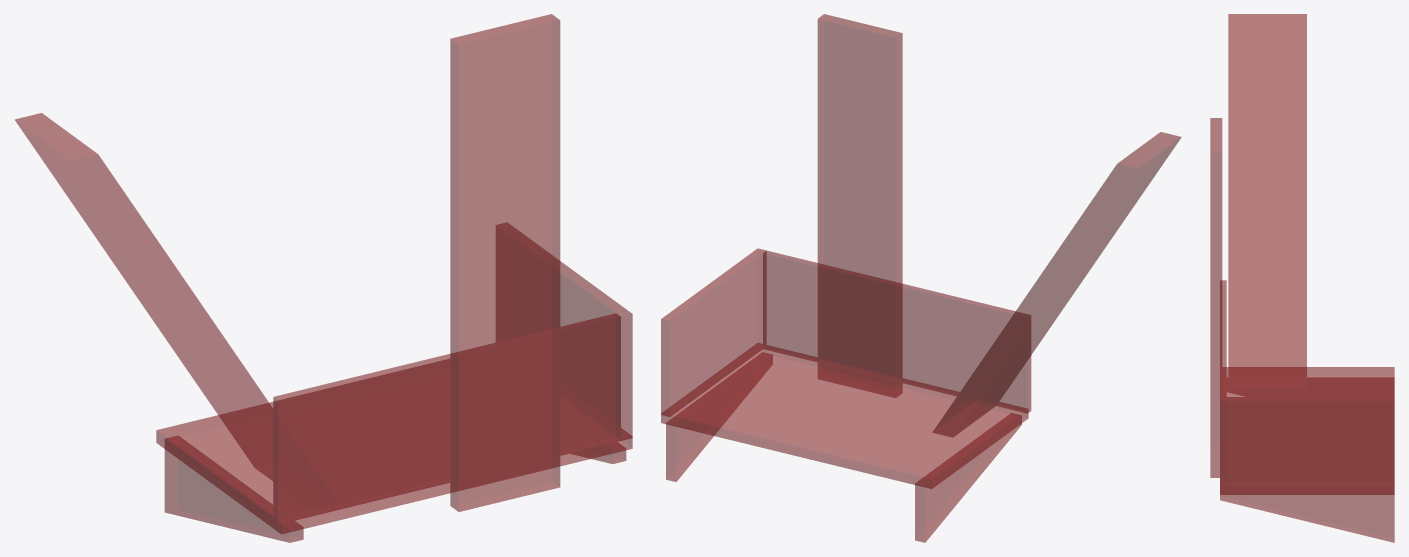
The model's file is SM_Bld_FireEscape_03_Collision.fbx.
The picture shows the model from 3 angles, left to right: view 1: azimuth 30°, elevation 25°; view 2: azimuth 150°, elevation 25°; view 3: azimuth 270°, elevation 25°; orthographic projection. The views are drawn at different scales.
Visible parts, largest first — view 1: SM_Bld_FireEscape_03_Collision; view 2: SM_Bld_FireEscape_03_Collision; view 3: SM_Bld_FireEscape_03_Collision.
Part boxes in pixels (<box>): SM_Bld_FireEscape_03_Collision: <box>15,14,632,542</box>; SM_Bld_FireEscape_03_Collision: <box>661,14,1181,542</box>; SM_Bld_FireEscape_03_Collision: <box>1210,14,1394,542</box>.
Bounding box in the file's own units: 420 × 379 × 173.
